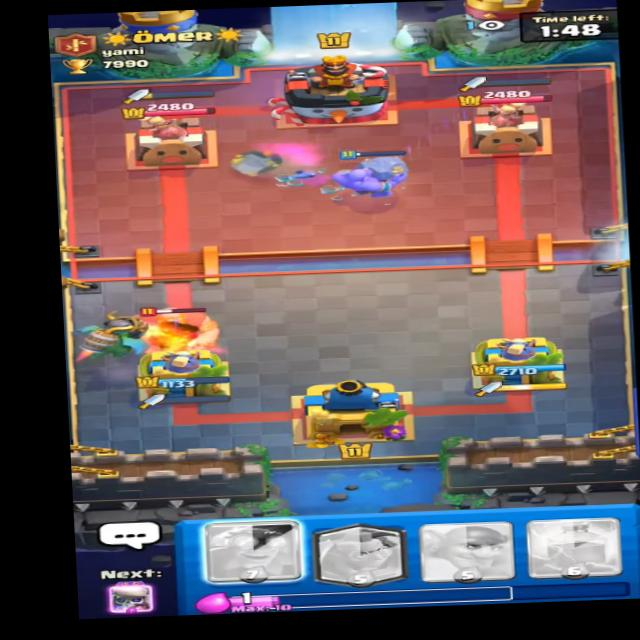giant: (117, 300, 239, 363)
